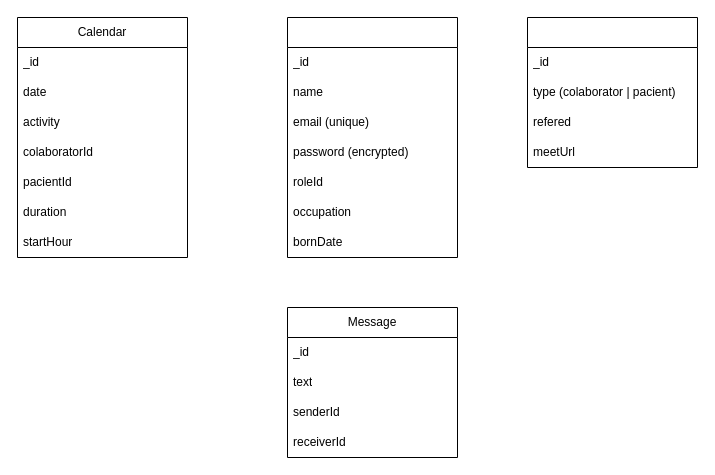
This 715x475 diagram has some shape labels left out. Here are the shapes that lost their labels. From the top down, the box of each, then its label:
(526, 16, 698, 168): Role
(286, 16, 458, 258): User
